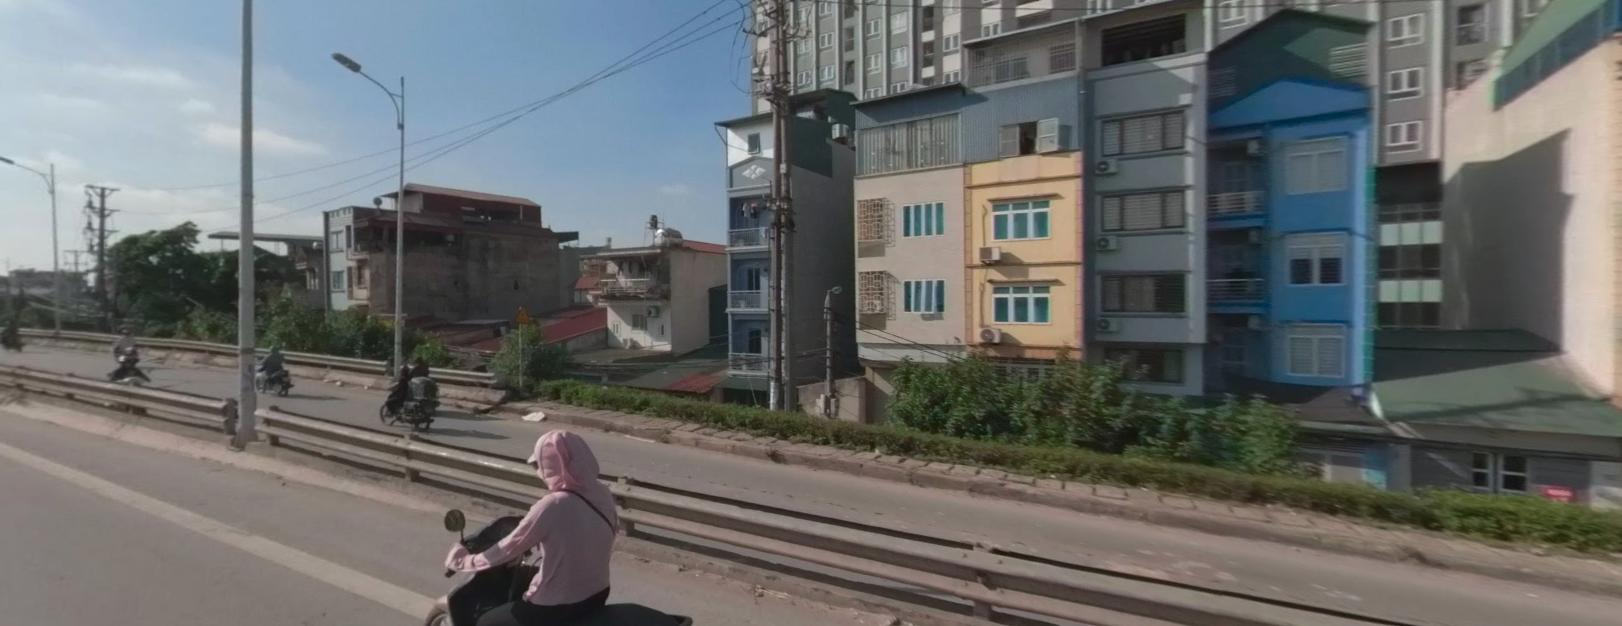Nguy hiem: (514, 305, 530, 322)
